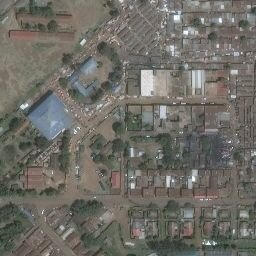tree: (8, 117, 21, 130), (34, 136, 48, 147), (113, 139, 124, 152), (167, 200, 178, 212), (158, 135, 169, 146), (114, 122, 123, 135), (18, 141, 31, 150), (62, 54, 73, 64), (47, 20, 56, 32), (98, 42, 107, 53), (101, 81, 110, 90), (208, 32, 217, 41), (59, 78, 67, 88), (93, 154, 102, 162), (239, 20, 249, 27), (109, 9, 118, 16), (37, 23, 45, 30), (108, 154, 114, 160)
